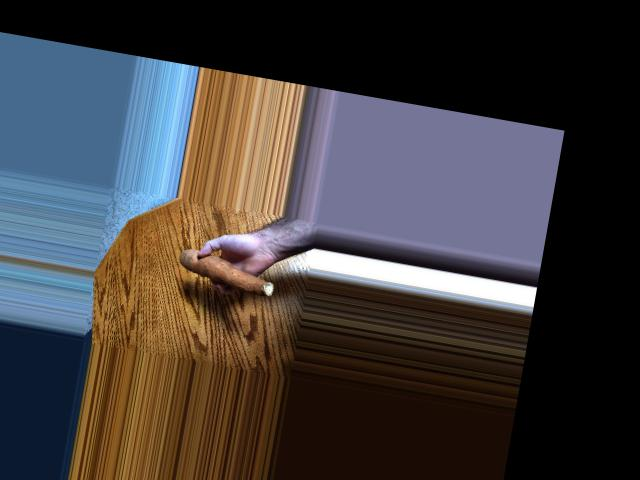sweet_potato: (171, 252, 281, 296)
